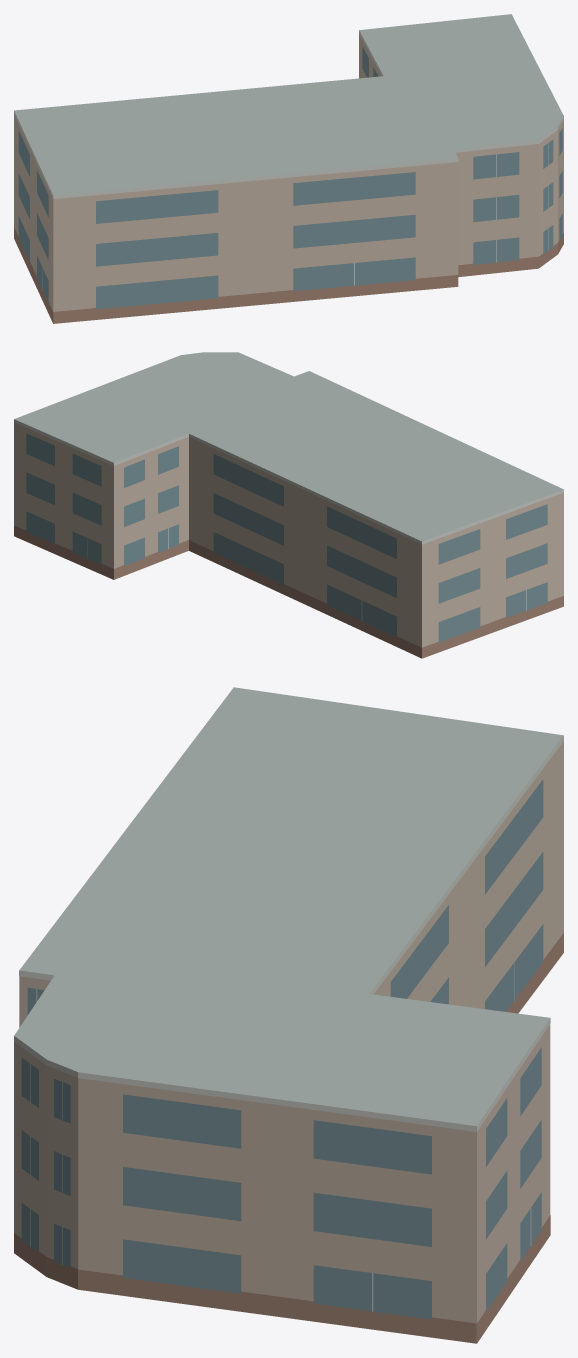
Rendered from survey-upis-33020778.glb.
3 views of the same model, one above another, from view 1: azimuth 30°, elevation 25°; view 2: azimuth 150°, elevation 25°; view 3: azimuth 270°, elevation 25° (orthographic). The views are drawn at different scales.
Visible parts, largest first — view 1: survey-upis-33020778.tmp; view 2: survey-upis-33020778.tmp; view 3: survey-upis-33020778.tmp.
Boxes of the visible parts, left/top/right/bottom form: survey-upis-33020778.tmp: left=14, top=14, right=563, bottom=323; survey-upis-33020778.tmp: left=14, top=352, right=563, bottom=658; survey-upis-33020778.tmp: left=14, top=687, right=563, bottom=1343.
Bounding box in the file's own units: 39.62 × 9.15 × 20.97.
